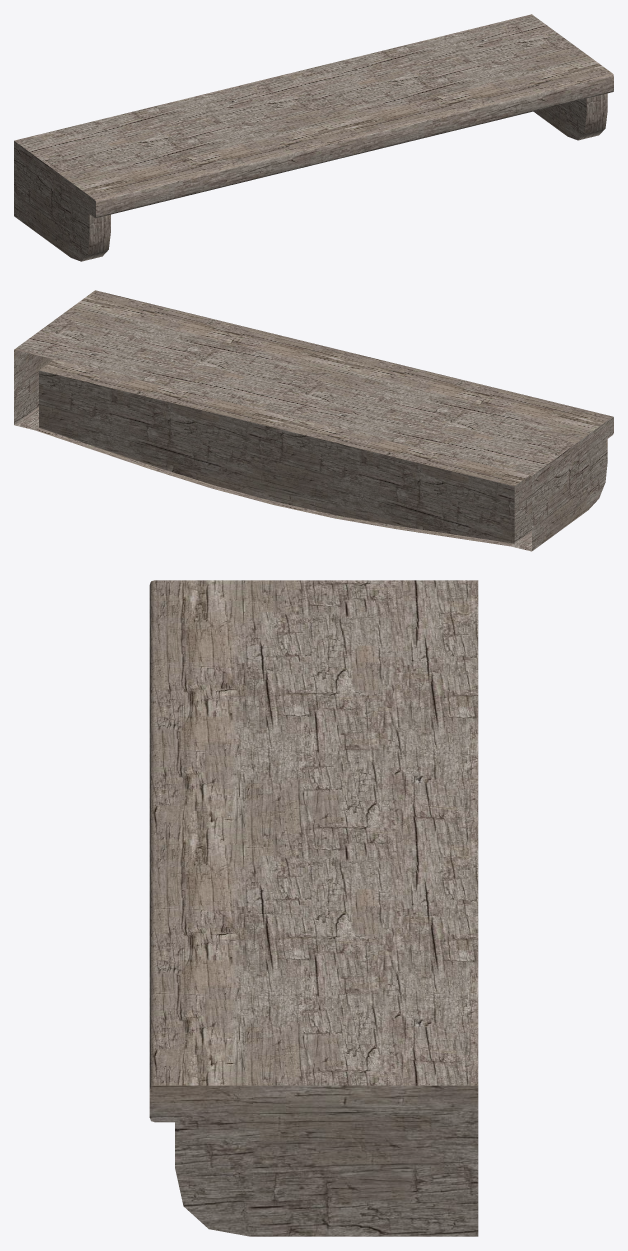
File: WallShelf.FBX
The picture shows the model from 3 angles, top to bottom: view 1: azimuth 30°, elevation 25°; view 2: azimuth 150°, elevation 25°; view 3: azimuth 270°, elevation 25°; orthographic projection. The views are drawn at different scales.
Visible parts, largest first — view 1: WallShelf; view 2: WallShelf; view 3: WallShelf.
Boxes of the visible parts, bbox=[...] form: WallShelf: bbox=[14, 14, 613, 261]; WallShelf: bbox=[14, 290, 613, 551]; WallShelf: bbox=[149, 580, 478, 1236].
Bounding box in the file's own units: 932 × 158 × 256.
